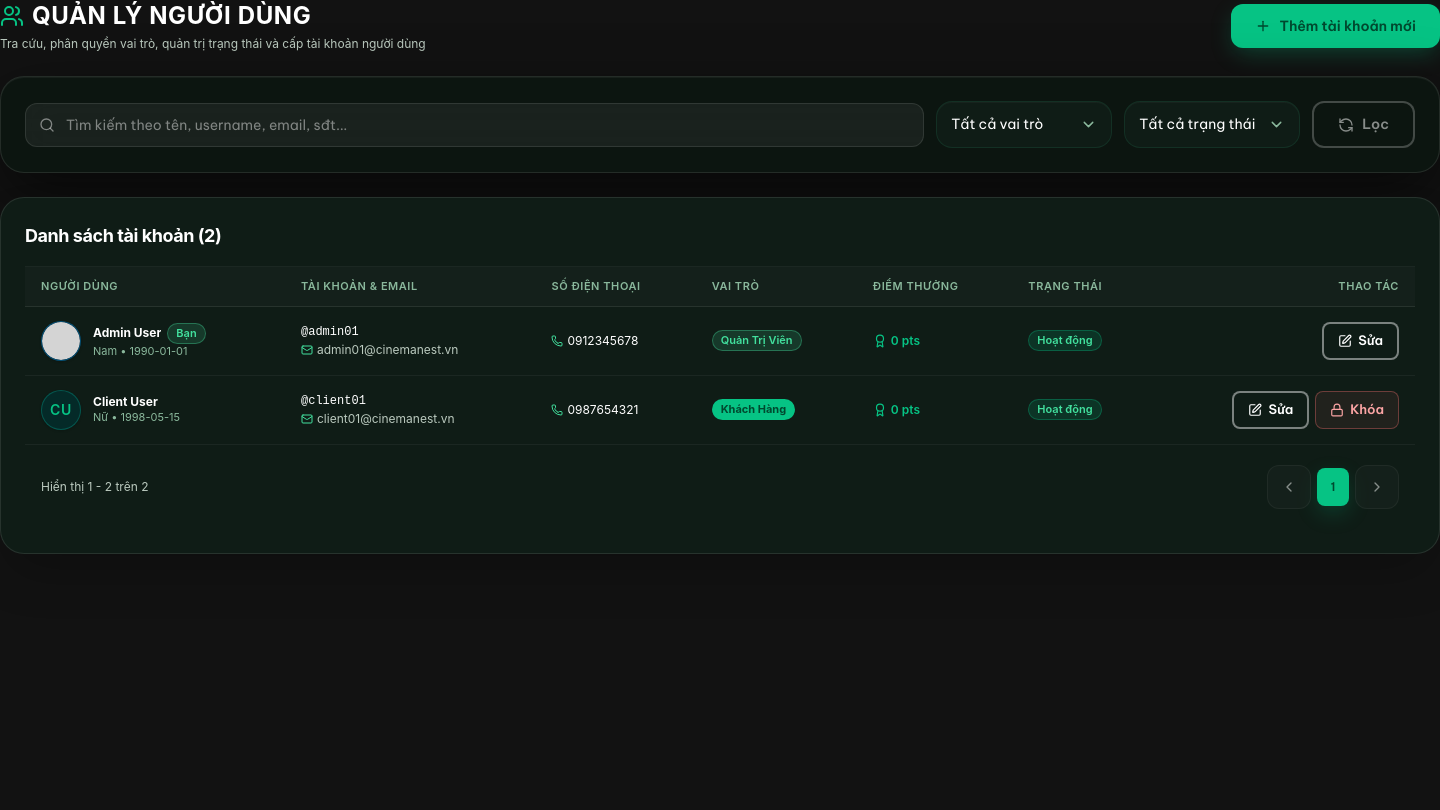
Test: UserManagementPage › disables role and status select fields when editing self
Expected: the text "Admin User" is shown, [93,325,161,341]
Click the button "Sửa" in the row of "Admin User": (1361, 341) [1322,322,1399,360]
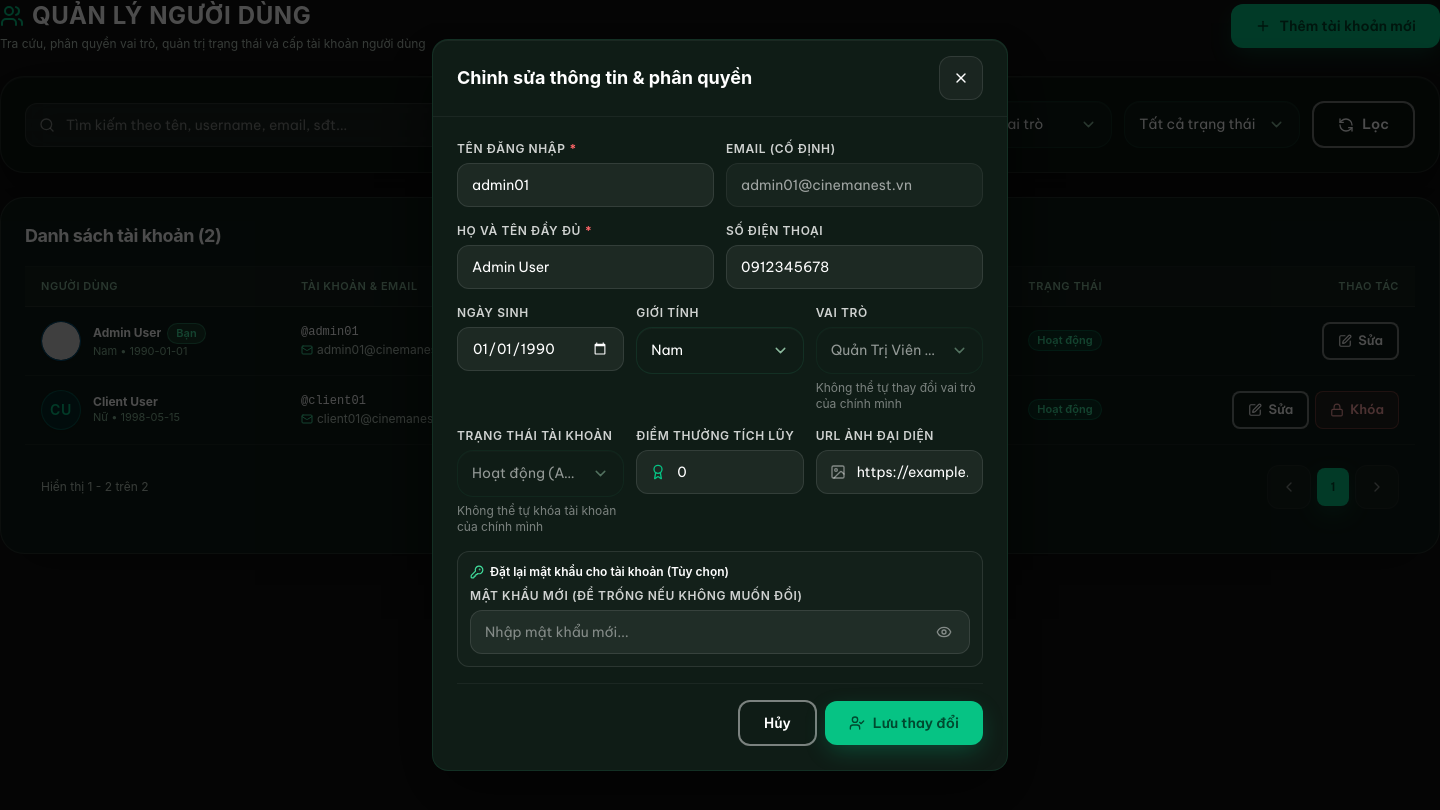
Now the heading "Chỉnh sửa thông tin & phân quyền" is shown, box [457,64,752,92]
Now the text "Không thể tự thay đổi vai trò của chính mình" is shown, box [816,380,983,412]
Now the text "Không thể tự khóa tài khoản của chính mình" is shown, box [457,503,624,535]
